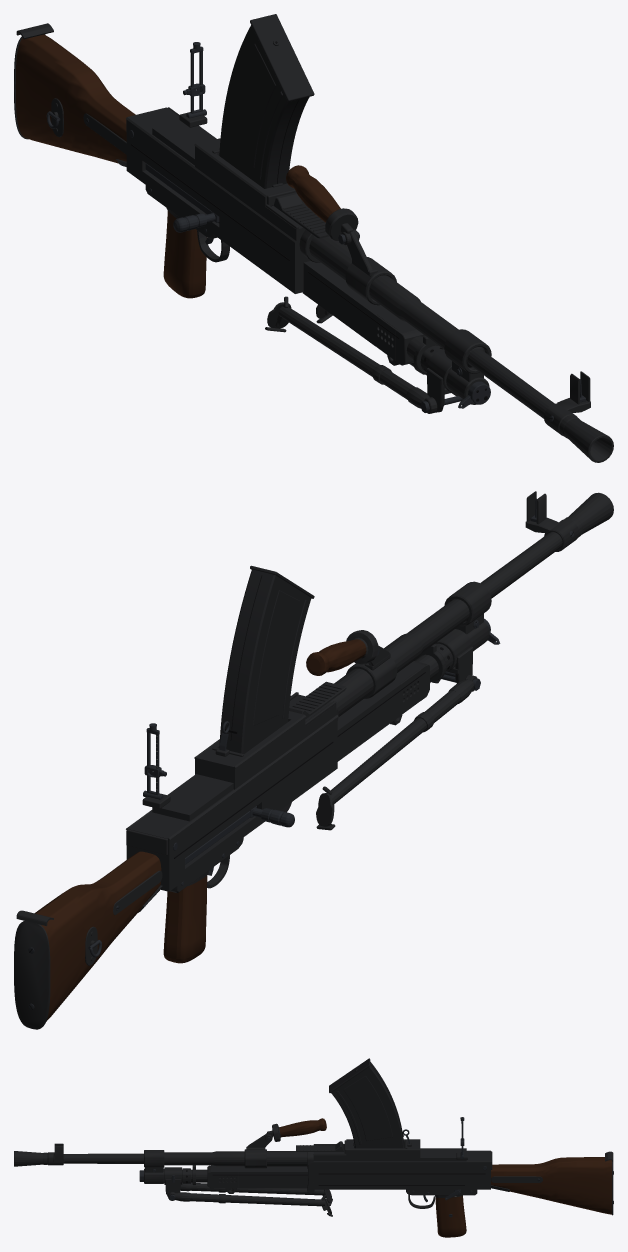
The model's file is uk-bren.glb.
3 views of the same model, one above another, from view 1: azimuth 30°, elevation 25°; view 2: azimuth 150°, elevation 25°; view 3: azimuth 270°, elevation 25° (orthographic). The views are drawn at different scales.
Parts seen in each view (by area): view 1: bren-parts, bren-magazine; view 2: bren-parts, bren-magazine; view 3: bren-parts, bren-magazine.
Boxes of the visible parts, left/top/right/bottom form: bren-parts: left=14, top=23, right=613, bottom=462; bren-magazine: left=219, top=14, right=314, bottom=188; bren-parts: left=14, top=491, right=613, bottom=1029; bren-magazine: left=219, top=565, right=314, bottom=754; bren-parts: left=14, top=1117, right=613, bottom=1237; bren-magazine: left=329, top=1058, right=404, bottom=1148.
Bounding box in the file's own units: 0.1092 × 0.3709 × 1.16.
